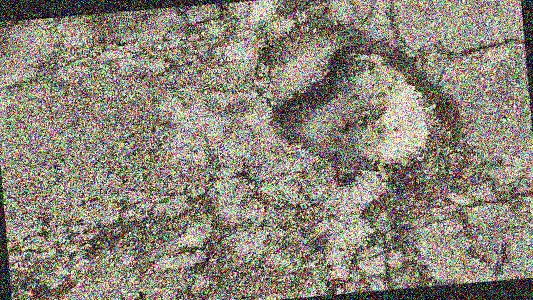pothole: (258, 24, 471, 196), (10, 276, 60, 300)
